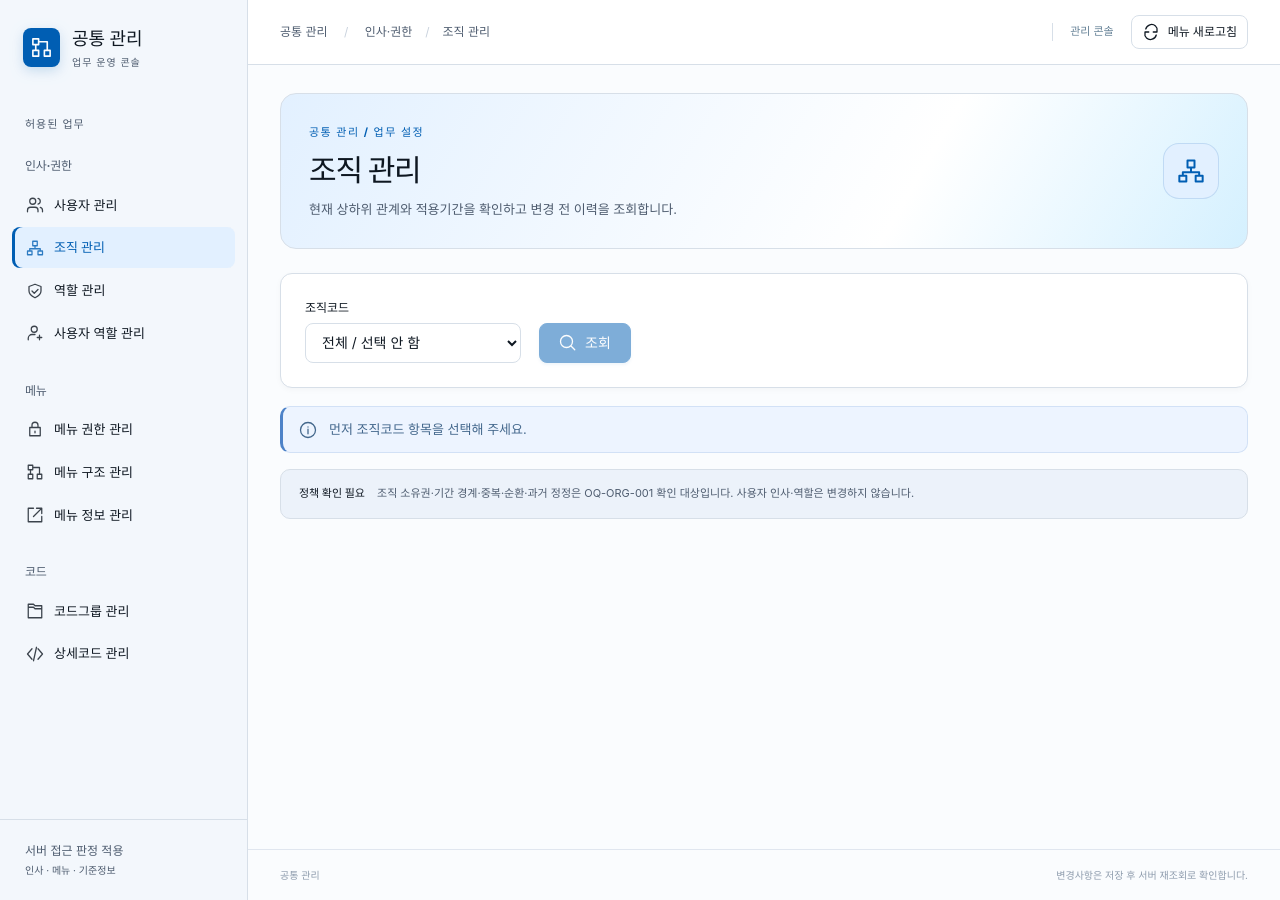
실제 App 접근 판정과 화면 계약 › 조직 이력은 현재 관계가 아닌 실제 이력 API를 읽는다
The image size is (1280, 900).
Select "fixture-key" in the dropdown named "조직코드 조회". click: (413, 343)
box: [305, 323, 521, 363]
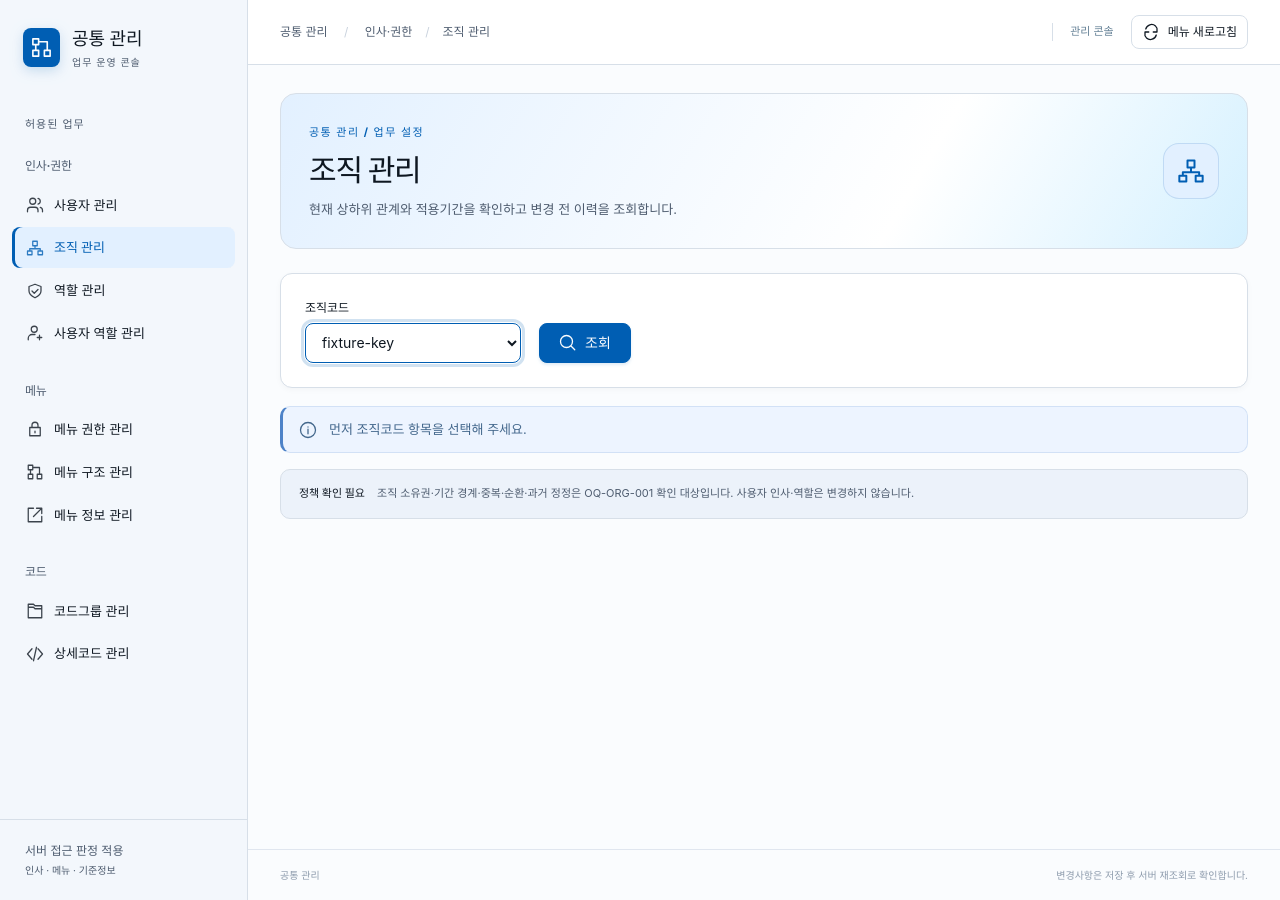
Click the button "조회". click: (585, 343)
box: [539, 323, 631, 363]
(page scrolled)
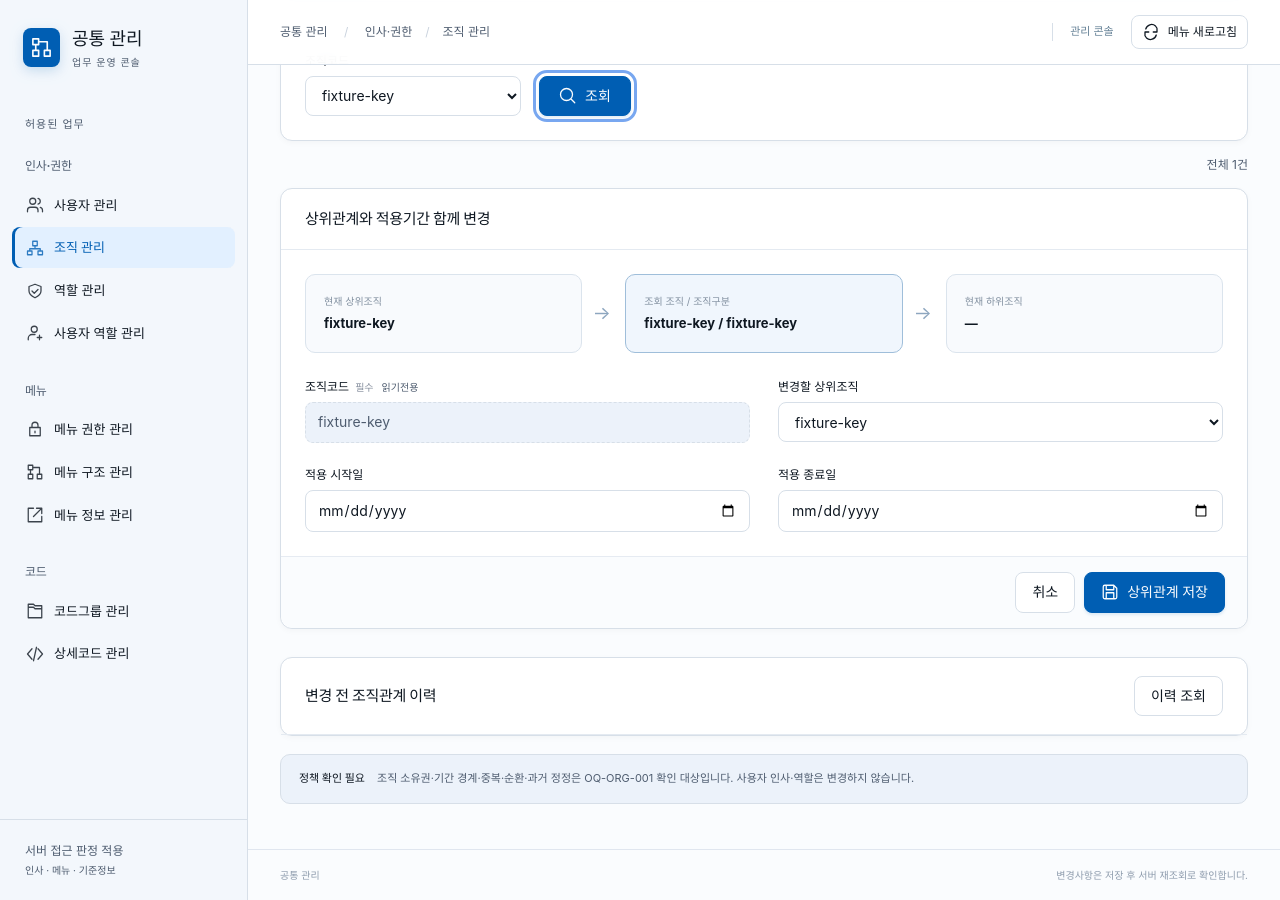
Check: the dropdown labelled "변경할 상위조직" is shown, box [778, 402, 1223, 442]
Click the button "이력 조회". click: (1178, 696)
box: [1134, 676, 1223, 716]
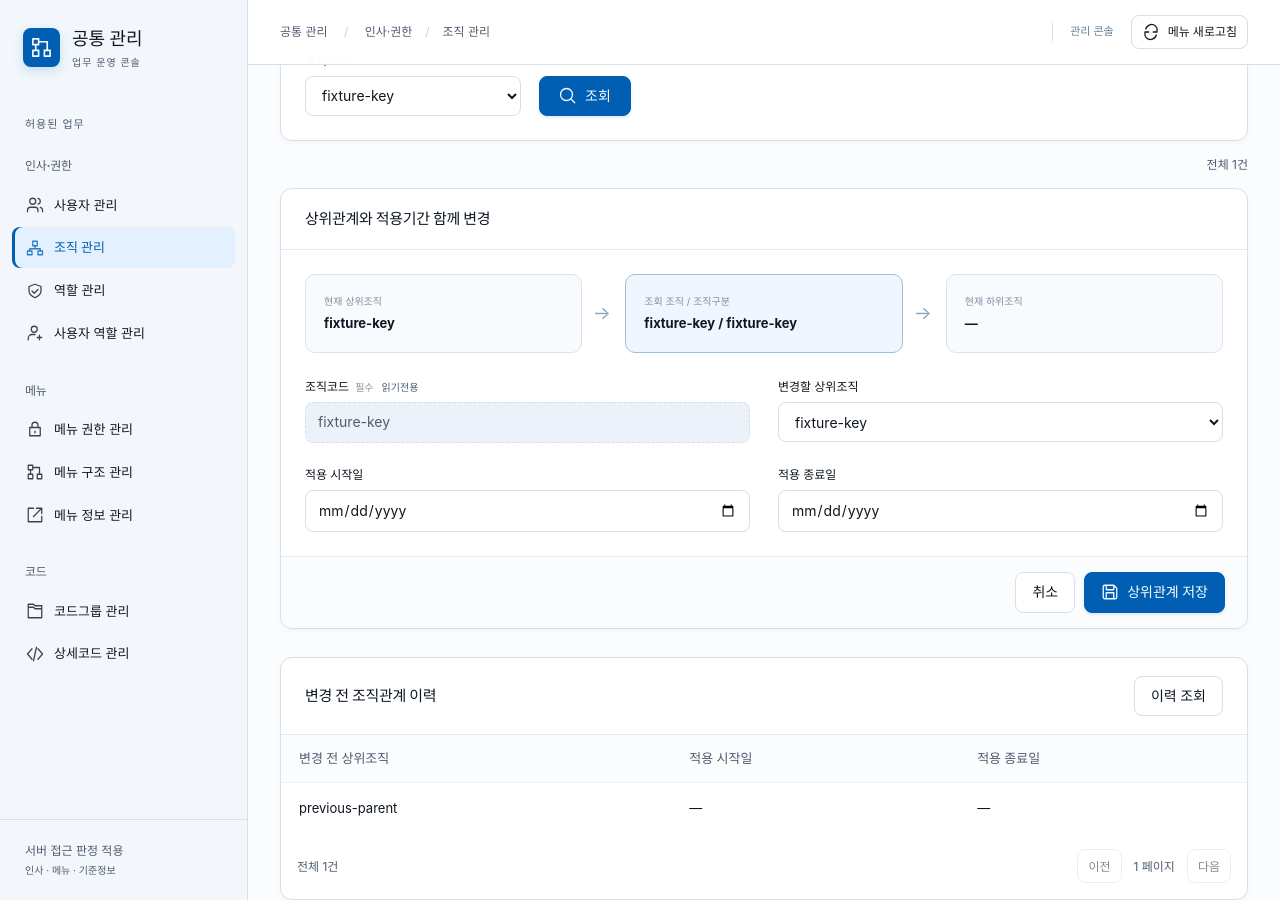
Check: the text "previous-parent" is shown, box [281, 782, 671, 834]
